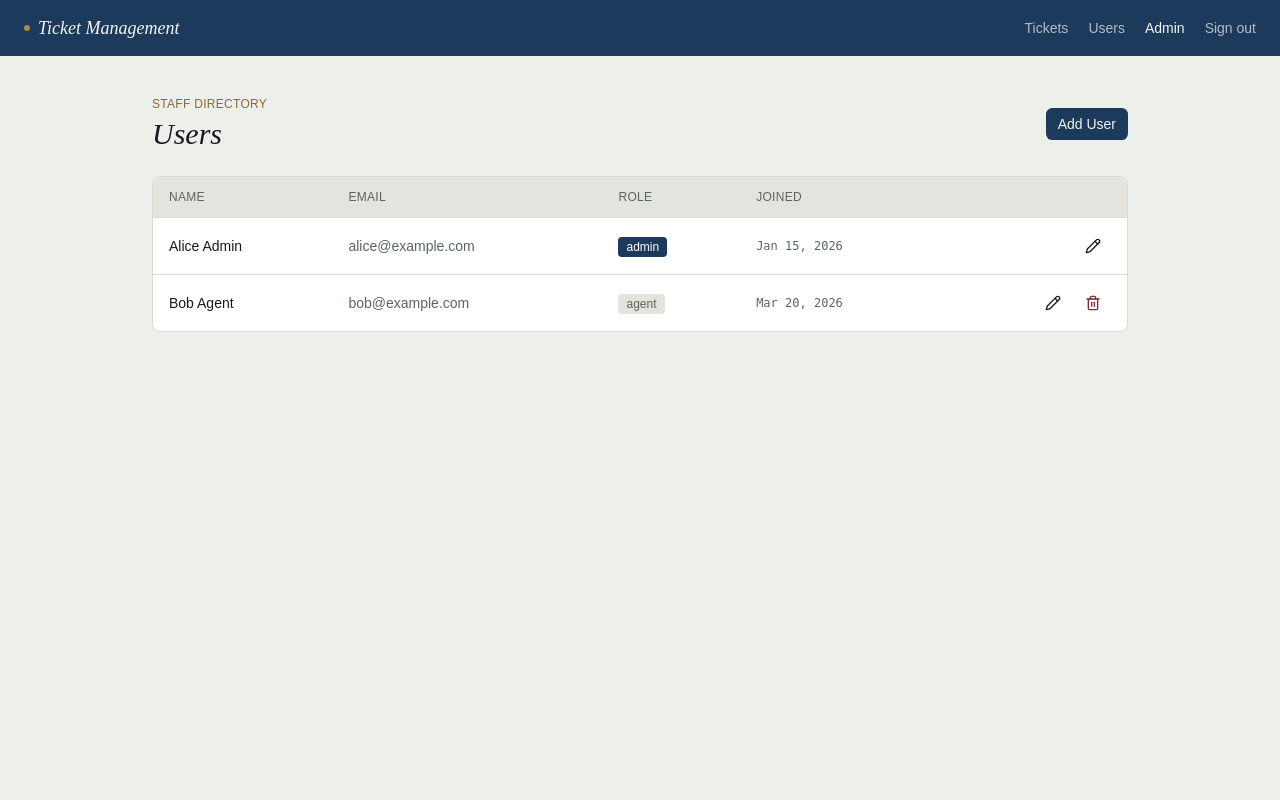
Scenario: UsersPage › Add User modal › shows the modal when "Add User" is clicked
Expected: the text "Alice Admin" is shown, [153,218,332,274]
Click the button "Add User" at [1087, 124], box [1046,108,1128,140]
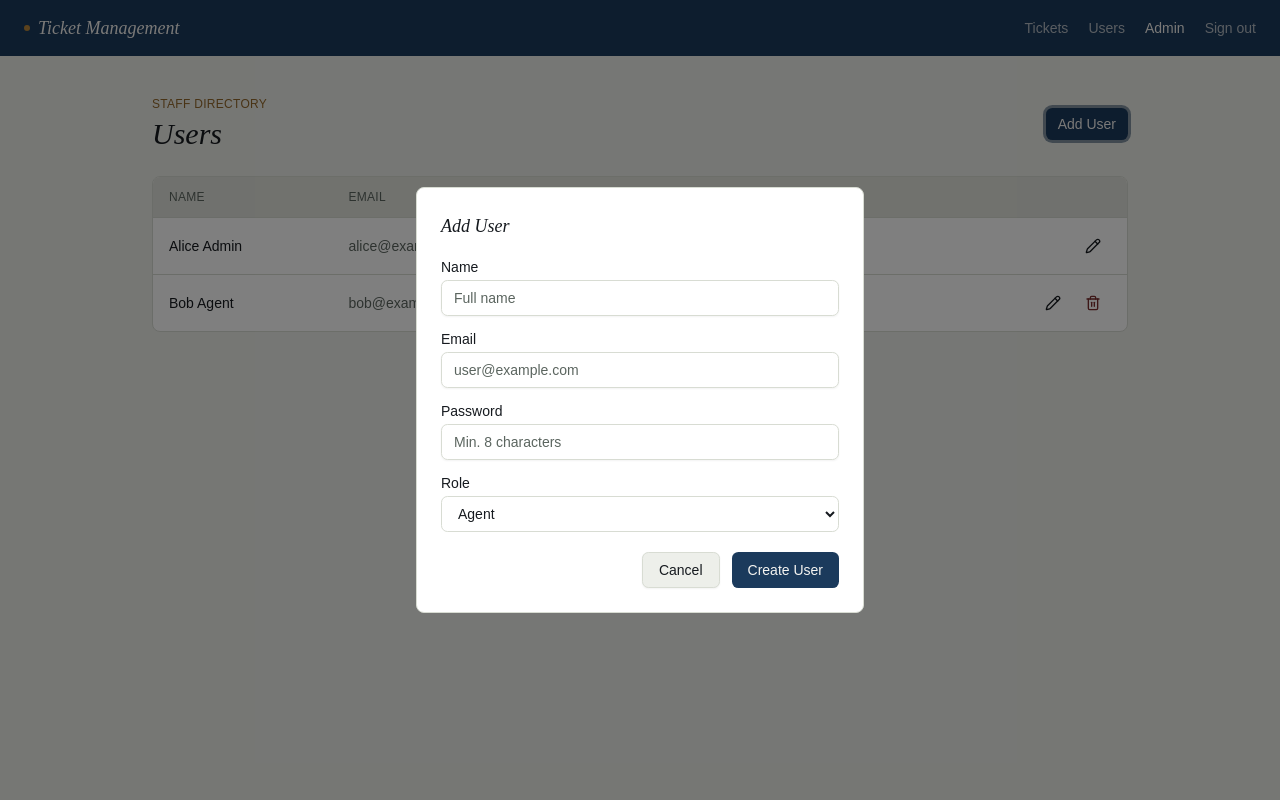
Now the heading "Add User" is shown, box [441,216,510,236]
